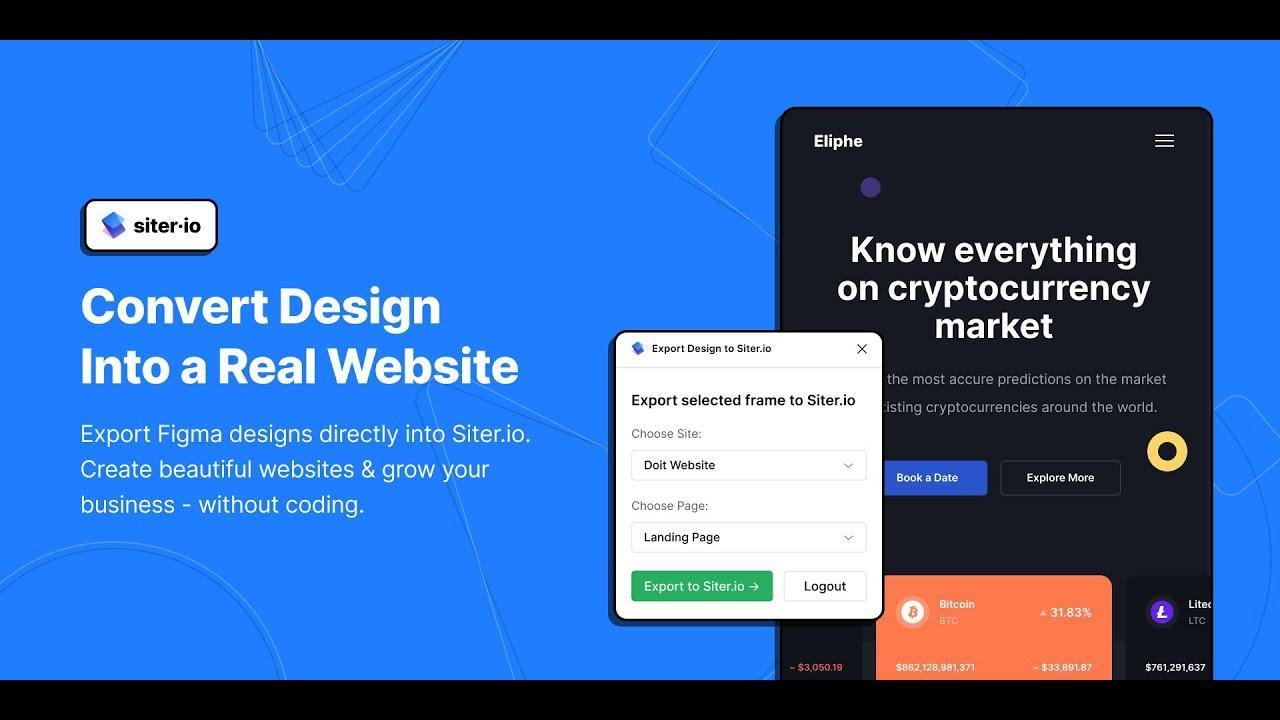button: (999, 459, 1125, 499), (632, 570, 775, 604), (885, 458, 991, 498), (781, 569, 869, 604)
dropdown: (630, 520, 868, 555), (631, 450, 871, 483)
label: (631, 426, 706, 446), (628, 500, 710, 517)
